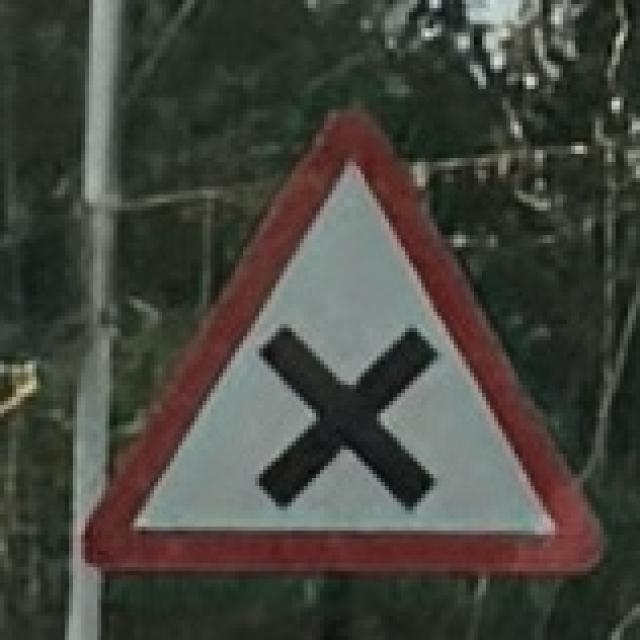CROSS_ROAD: (62, 95, 614, 586)
